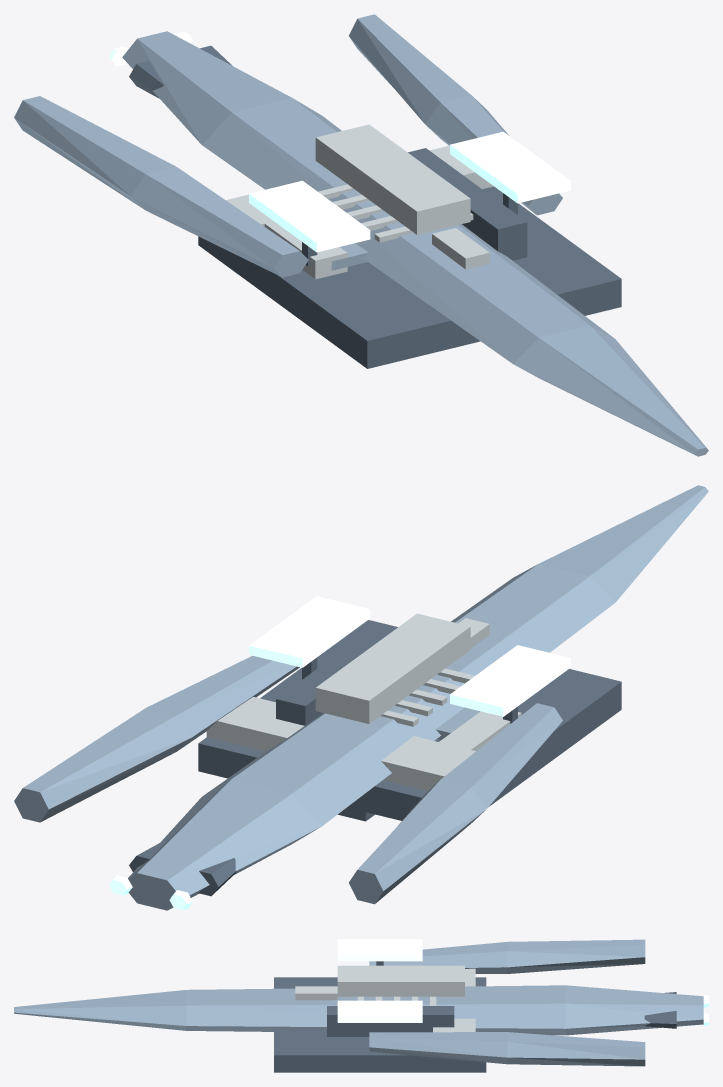
3 views of the same model, one above another, from view 1: azimuth 30°, elevation 25°; view 2: azimuth 150°, elevation 25°; view 3: azimuth 270°, elevation 25° (orthographic). The views are drawn at different scales.
Bounding box in the file's own units: 5.3 × 1.44 × 13.75.
